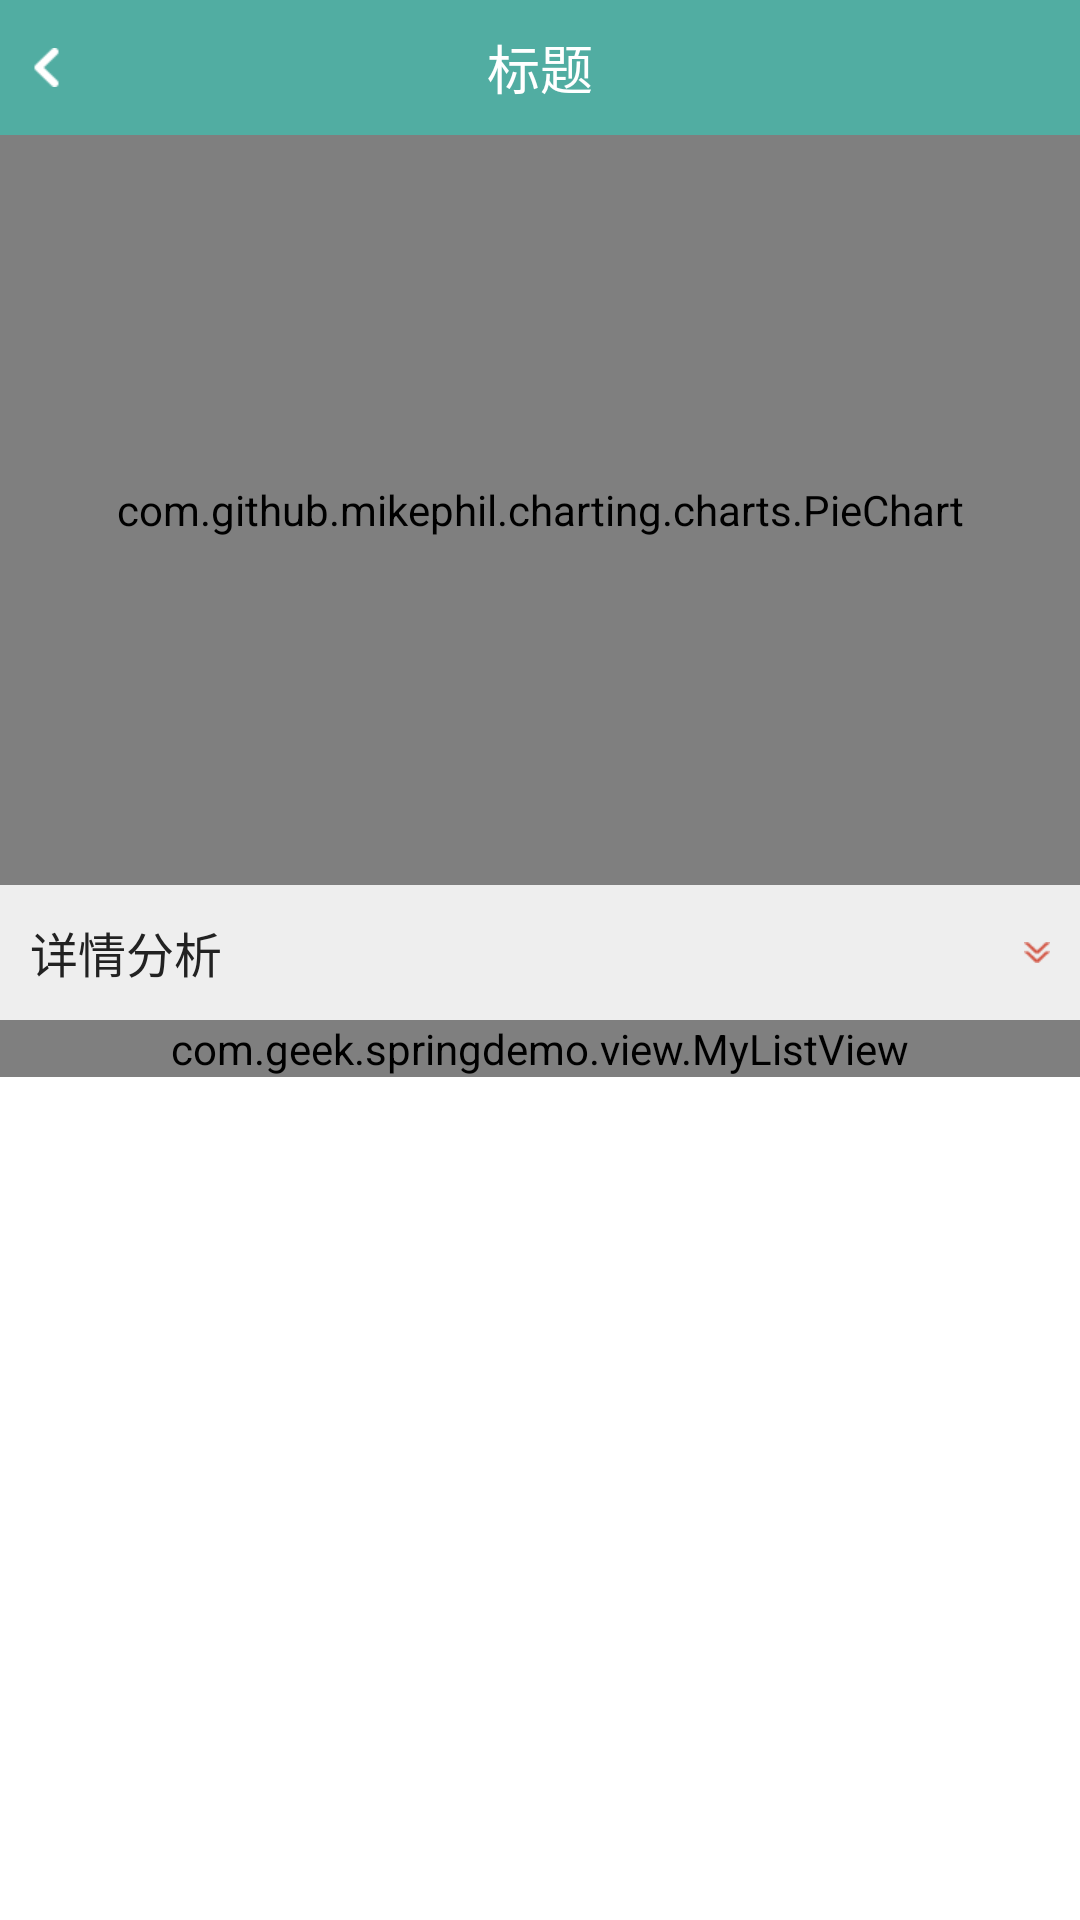

Where to tap for icons on this 1080px×1920px app screen, as (x,y):
back index: (46,67)
